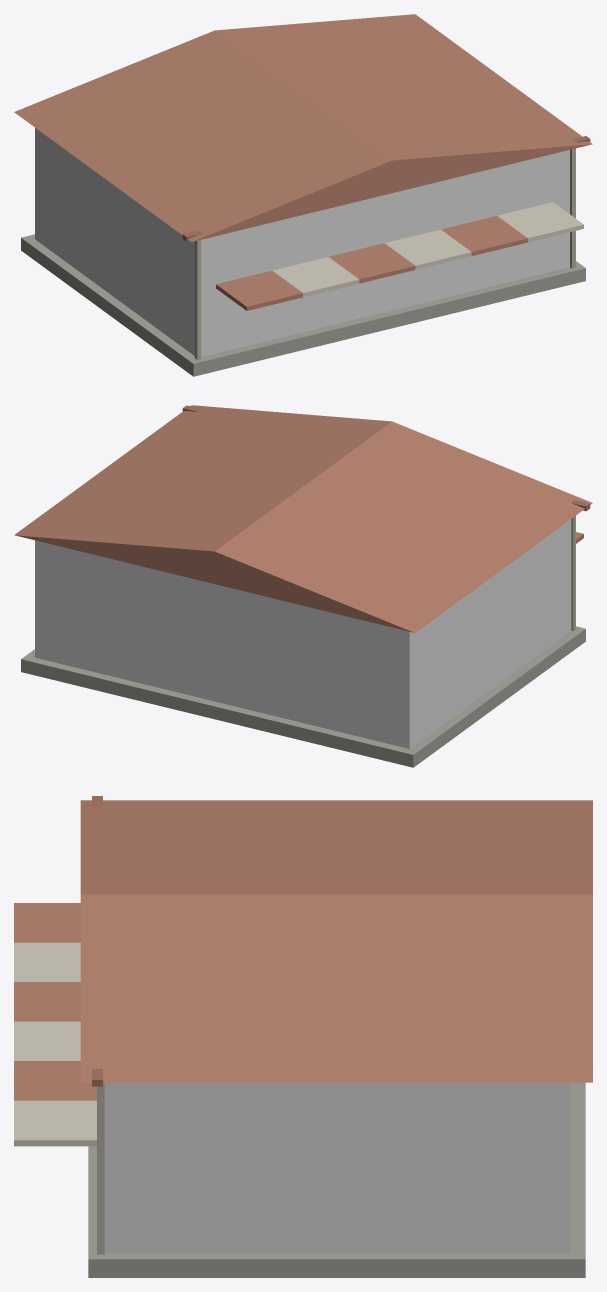
The picture shows the model from 3 angles, top to bottom: view 1: azimuth 30°, elevation 25°; view 2: azimuth 150°, elevation 25°; view 3: azimuth 270°, elevation 25°; orthographic projection. The views are drawn at different scales.
Visible parts, largest first — view 1: Visual; view 2: Visual; view 3: Visual.
Part boxes in pixels (bbox=[...]): Visual: bbox=[14, 14, 592, 376]; Visual: bbox=[14, 405, 592, 767]; Visual: bbox=[14, 796, 592, 1277].
Bounding box in the file's own units: 36.2 × 14.6 × 31.2.
